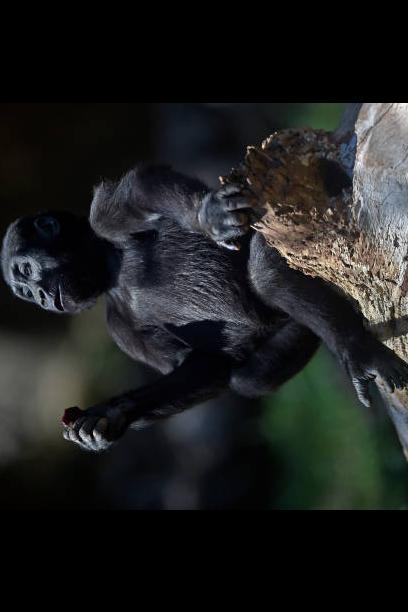gorille_Autres: (0, 136, 402, 463)
